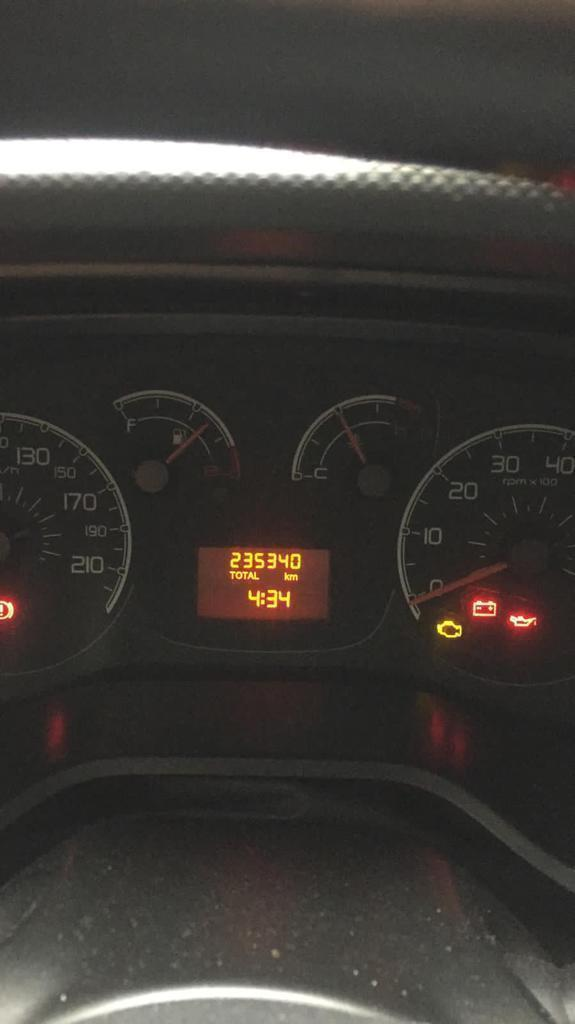0: (290, 552, 301, 569)
2: (229, 551, 241, 568)
3: (266, 588, 277, 608), (242, 551, 253, 568), (266, 551, 276, 569)
4: (246, 588, 260, 607), (278, 589, 291, 608), (277, 552, 288, 569)
5: (254, 551, 265, 568)
X: (260, 591, 266, 606), (253, 570, 261, 580), (289, 573, 298, 581), (228, 569, 235, 579), (242, 570, 248, 580), (283, 571, 289, 581), (235, 571, 242, 579), (248, 570, 253, 580)
odometer: (191, 543, 332, 623)
